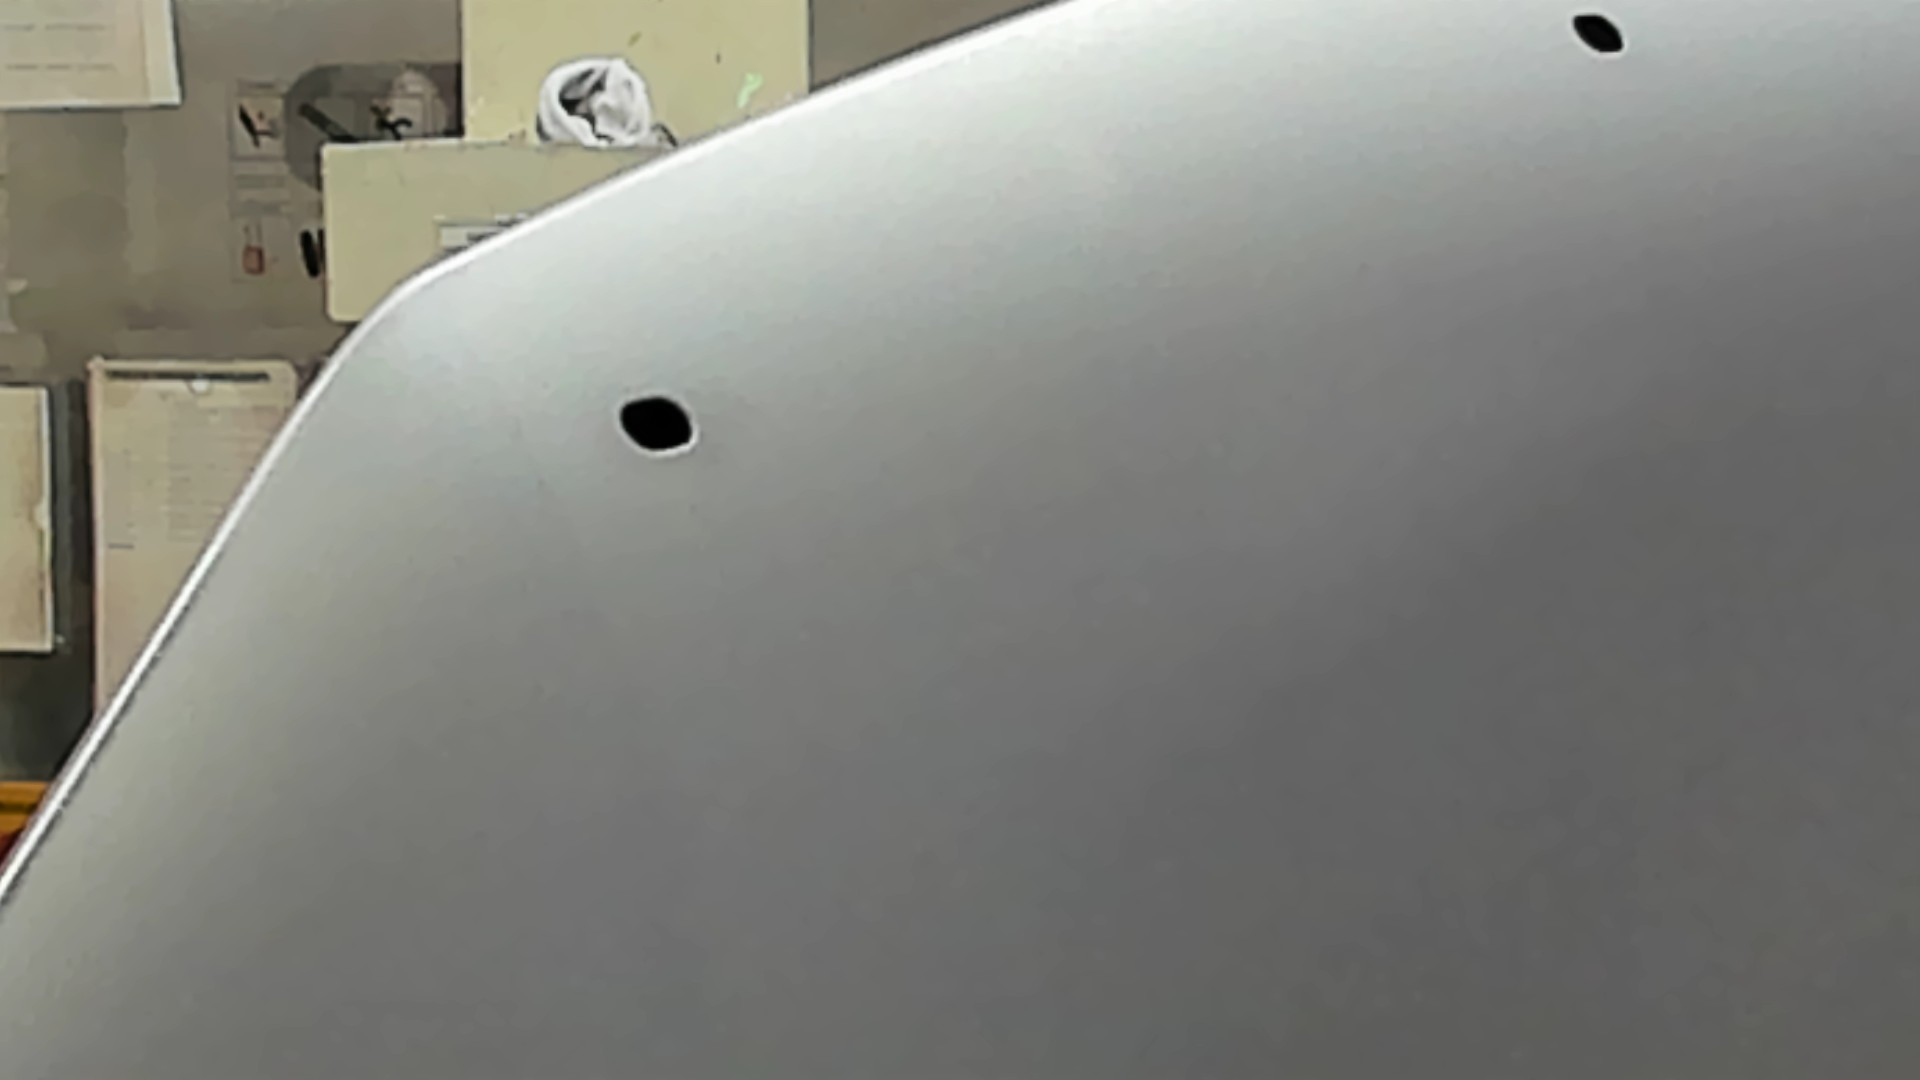chico: (611, 386, 705, 464), (1559, 15, 1636, 63)
